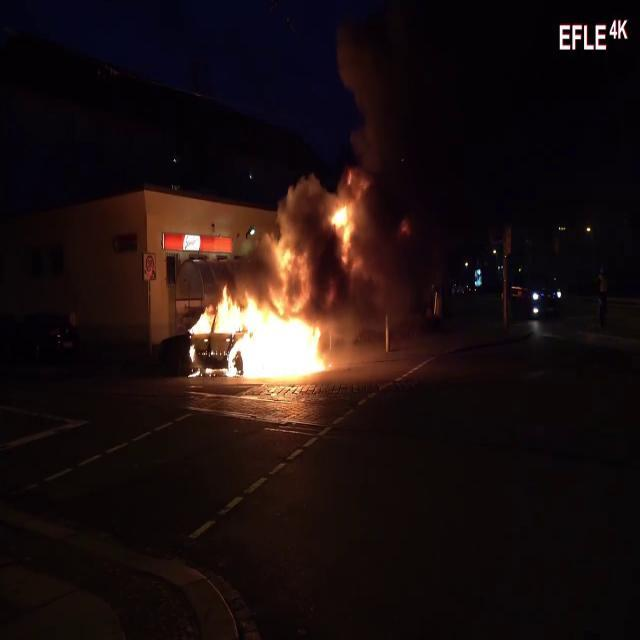Fire: (186, 275, 332, 385)
Smoke: (276, 9, 406, 290)
